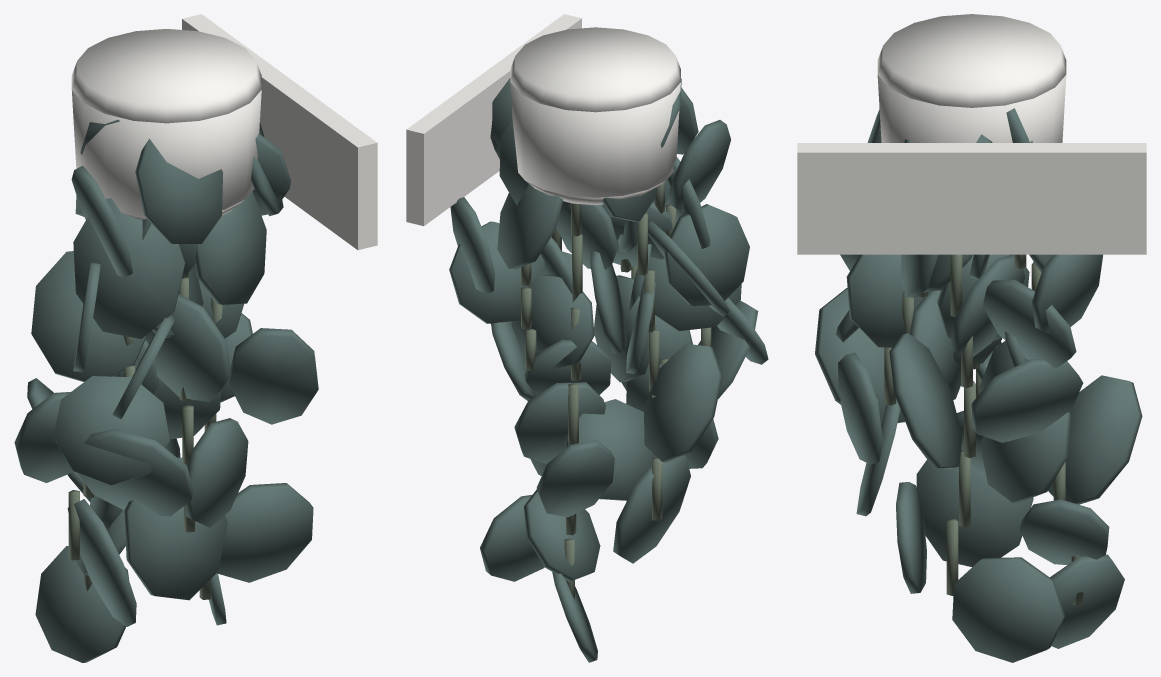
File: rios_trailing_plant.glb
The picture shows the model from 3 angles, left to right: view 1: azimuth 30°, elevation 25°; view 2: azimuth 150°, elevation 25°; view 3: azimuth 270°, elevation 25°; orthographic projection. The views are drawn at different scales.
Parts seen in each view (by area): view 1: root; view 2: root; view 3: root.
Part boxes in pixels (box(x1,y1,x2,y2)): root: box(14, 14, 377, 662); root: box(406, 14, 768, 662); root: box(797, 14, 1146, 662).
Bounding box in the file's own units: 0.3422 × 0.7333 × 0.378.
